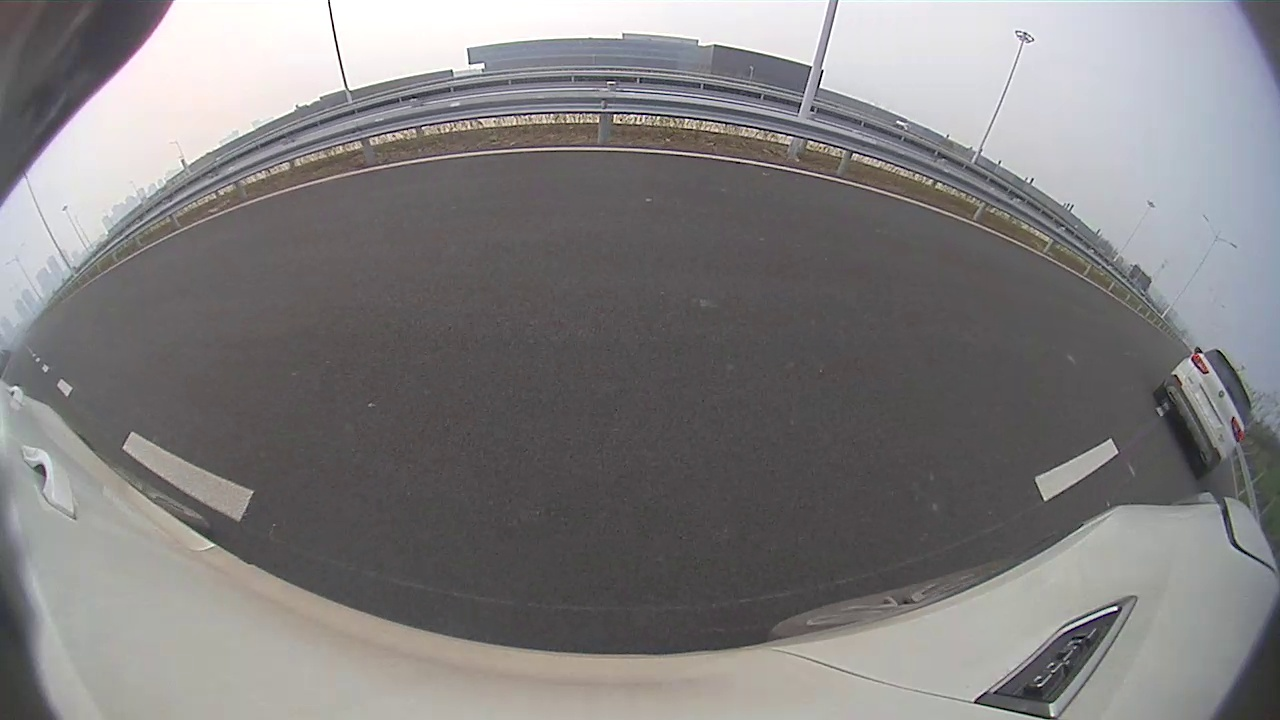car: (1151, 347, 1252, 476)
